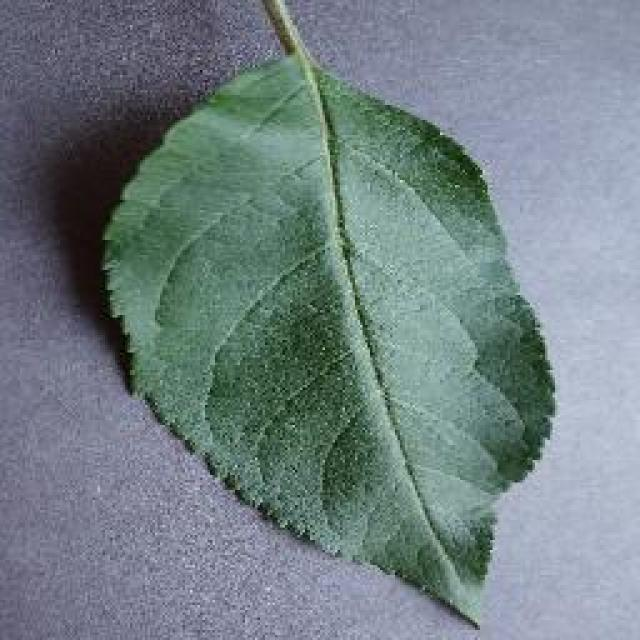apple healthy: (95, 2, 557, 628)
